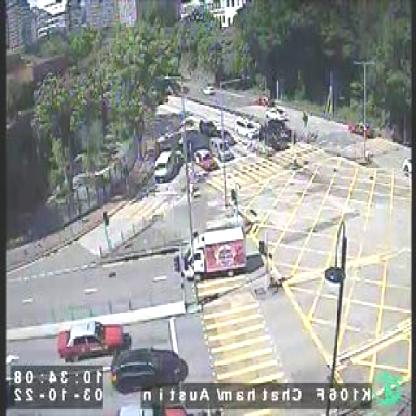Car: (113, 346, 189, 392), (58, 319, 125, 360), (155, 151, 177, 185), (211, 135, 230, 158), (195, 149, 216, 168), (239, 120, 260, 137), (202, 118, 217, 135), (266, 109, 288, 120)
Truck: (186, 227, 247, 277)
